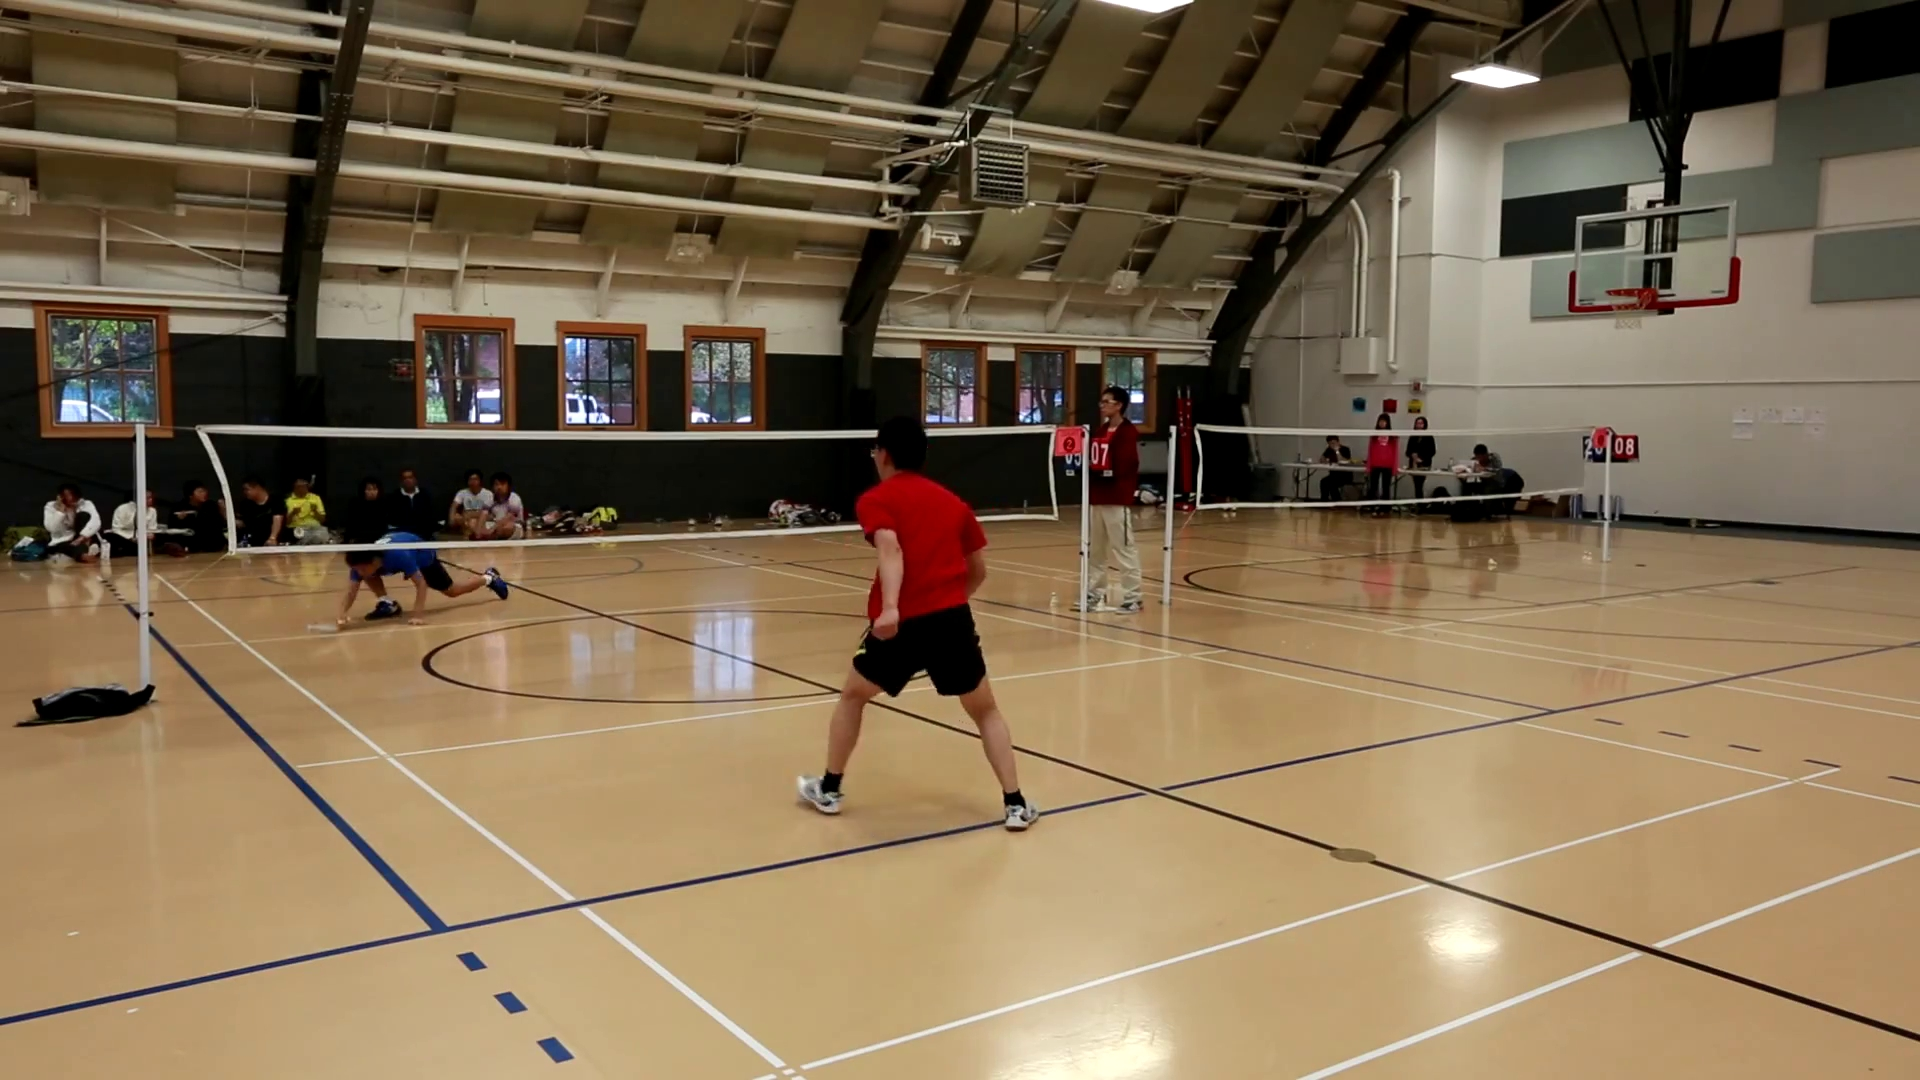person: (796, 419, 1039, 831), (337, 530, 509, 627), (1089, 385, 1139, 615)
